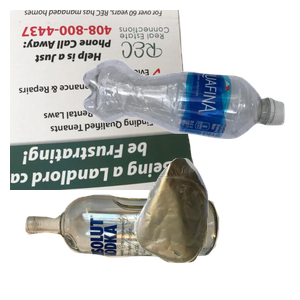glass: (22, 192, 234, 300)
paper: (10, 10, 201, 190)
plastic: (80, 56, 300, 187)
trash: (131, 155, 300, 300)
